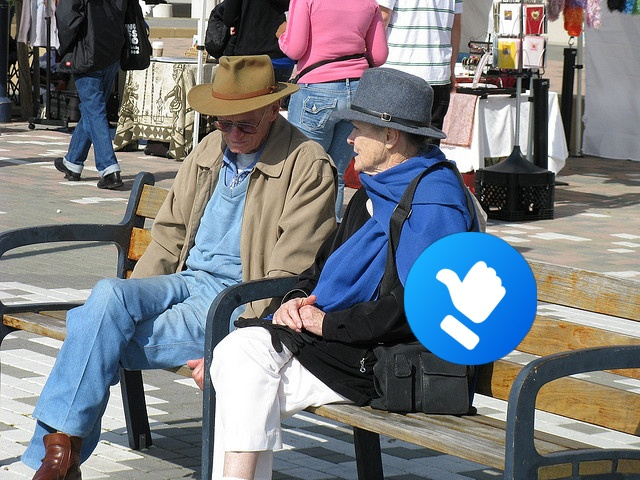like: (404, 232, 537, 365)
